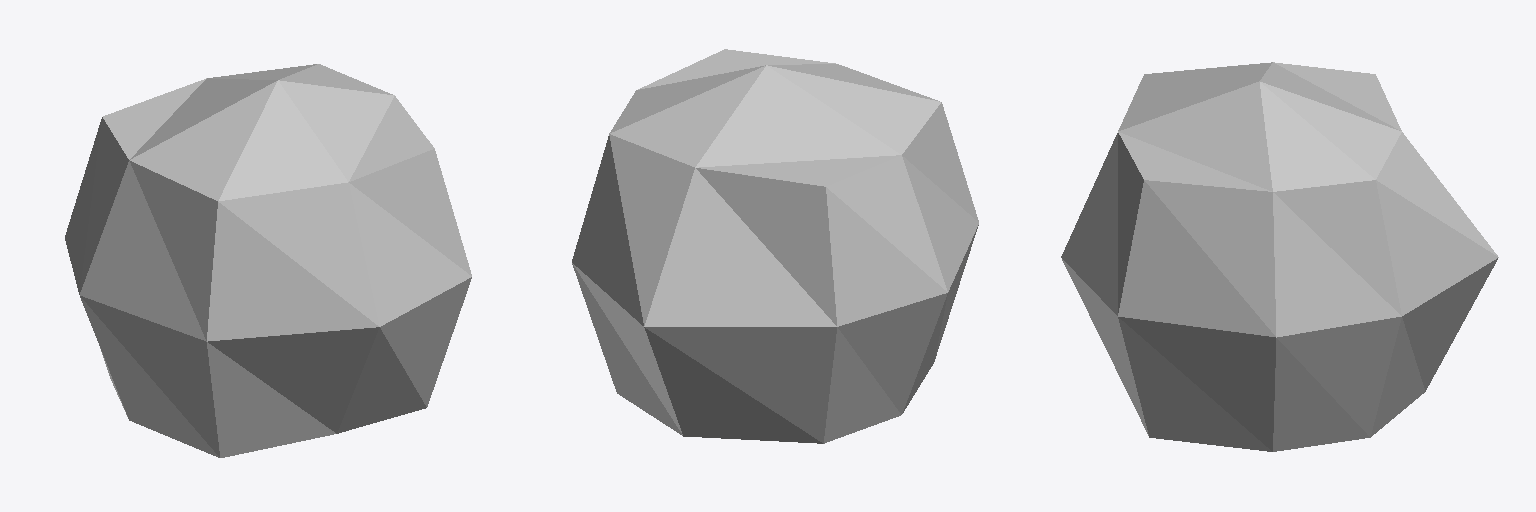
Rendered from lpsphere.obj.
The picture shows the model from 3 angles: view 1: azimuth 30°, elevation 25°; view 2: azimuth 150°, elevation 25°; view 3: azimuth 270°, elevation 25°; orthographic projection.
Parts seen in each view (by area): view 1: Cube; view 2: Cube; view 3: Cube.
Part boxes in pixels (x1,y1,x2,y2): Cube: (65,64,471,457); Cube: (572,49,978,443); Cube: (1061,62,1498,451).
Size of the model in its own units: 0.6626 by 0.6403 by 0.7046.